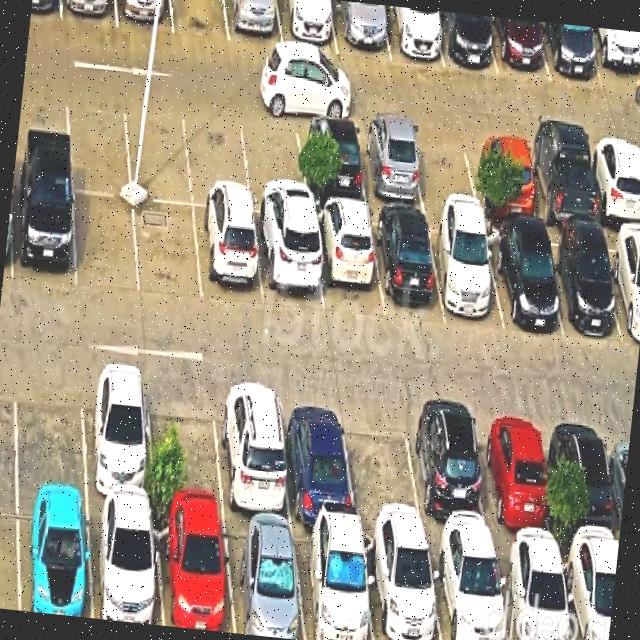empty: (342, 397, 424, 535), (147, 373, 224, 514), (14, 360, 86, 496), (123, 96, 192, 204), (239, 109, 308, 217), (185, 103, 251, 210), (134, 199, 201, 303), (65, 89, 130, 195), (73, 192, 139, 294), (409, 125, 479, 211), (170, 0, 229, 41)
occupied: (404, 403, 492, 542), (474, 408, 554, 549), (214, 381, 291, 521), (278, 388, 356, 525), (81, 364, 154, 506), (222, 517, 305, 640), (153, 510, 234, 633), (550, 414, 620, 553), (292, 525, 373, 640), (88, 501, 162, 625), (17, 496, 91, 618), (483, 224, 563, 336), (427, 216, 504, 330), (539, 229, 620, 337), (362, 531, 441, 640), (370, 210, 444, 320), (311, 205, 383, 318), (427, 541, 508, 640), (494, 544, 573, 640), (193, 206, 263, 307), (253, 215, 323, 313), (524, 136, 598, 228), (13, 179, 75, 288), (467, 131, 538, 220), (296, 115, 367, 204), (356, 120, 425, 208), (559, 549, 617, 640), (586, 141, 640, 226), (601, 230, 640, 341), (540, 21, 602, 88), (433, 10, 497, 74), (488, 16, 550, 81), (381, 5, 443, 67), (587, 26, 640, 93), (331, 0, 390, 58), (276, 0, 338, 54), (224, 0, 282, 48), (115, 0, 173, 33), (60, 0, 117, 27)
